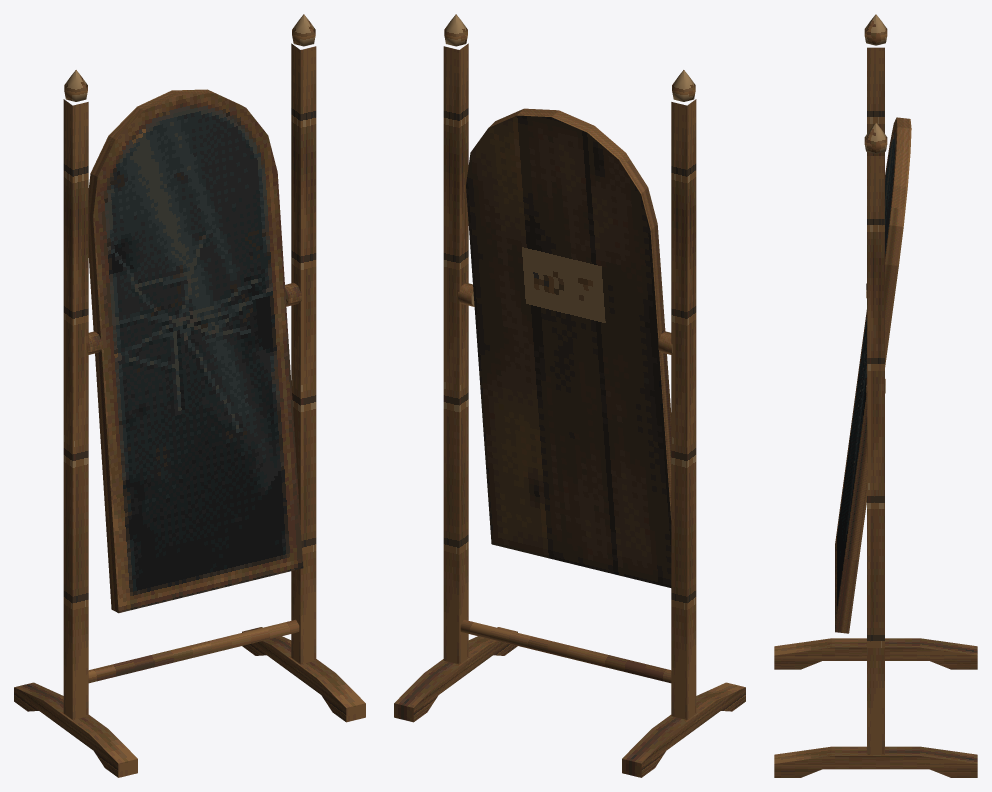
File: mirror_standing.glb
3 renders of one model, left to right at view 1: azimuth 30°, elevation 25°; view 2: azimuth 150°, elevation 25°; view 3: azimuth 270°, elevation 25°, orthographic. The views are drawn at different scales.
Visible parts, largest first — view 1: mirror_standing; view 2: mirror_standing; view 3: mirror_standing.
Part boxes in pixels (x1,y1,x2,y2): mirror_standing: (14,14,365,777); mirror_standing: (394,14,745,777); mirror_standing: (774,14,977,777).
Bounding box in the file's own units: 0.64 × 1.62 × 0.46.
Materials: 1 (1 with a texture image).
